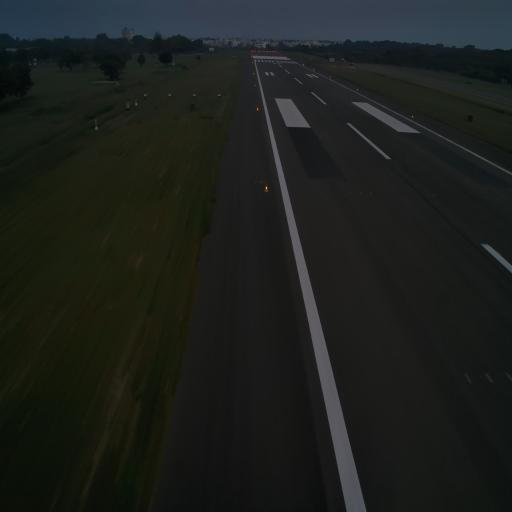off: (485, 368, 496, 390), (461, 369, 472, 387), (504, 368, 512, 383), (356, 187, 362, 199), (432, 191, 437, 201), (368, 190, 374, 198), (348, 187, 352, 198)
on: (263, 183, 269, 195)
